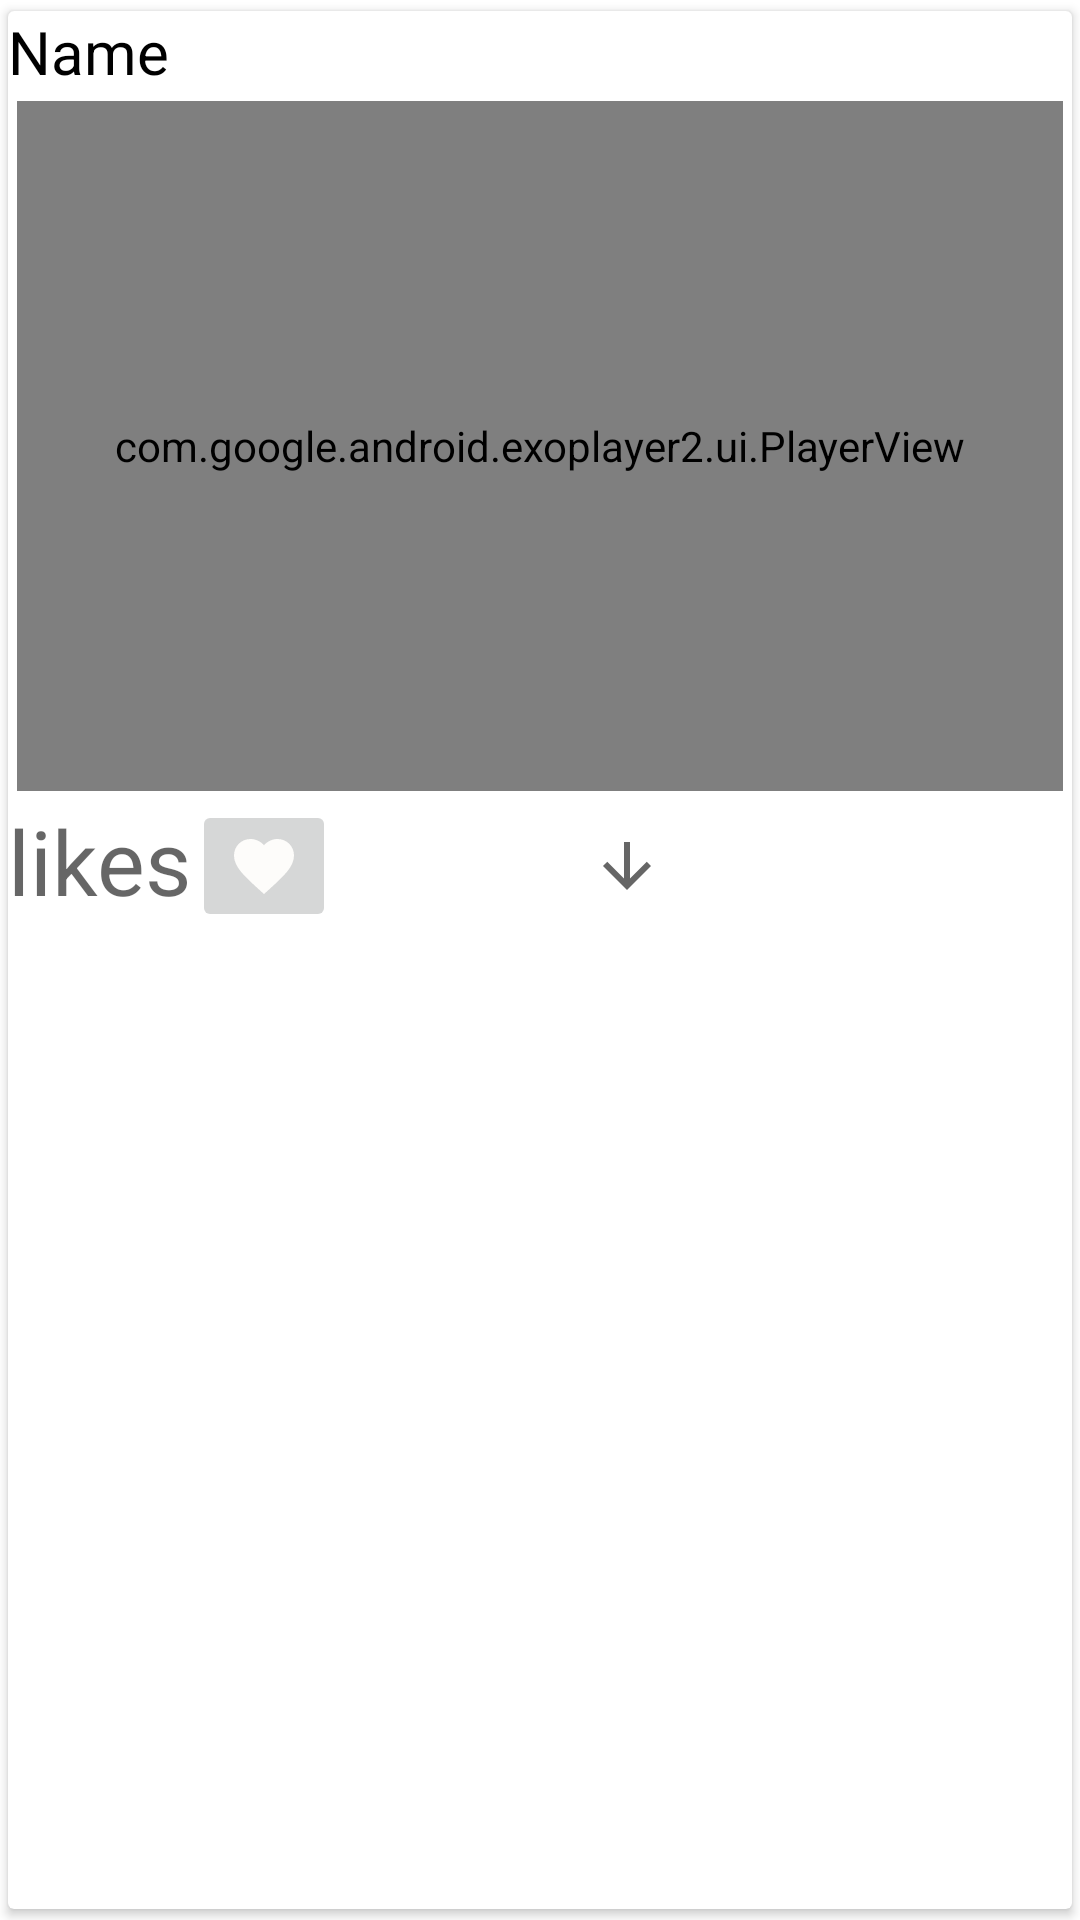

Screen size 1080w x 1920h. Icon name, then its center in pixels as [x,y]:
arrow downward: [627,866]
favorite dislike: [264,866]
